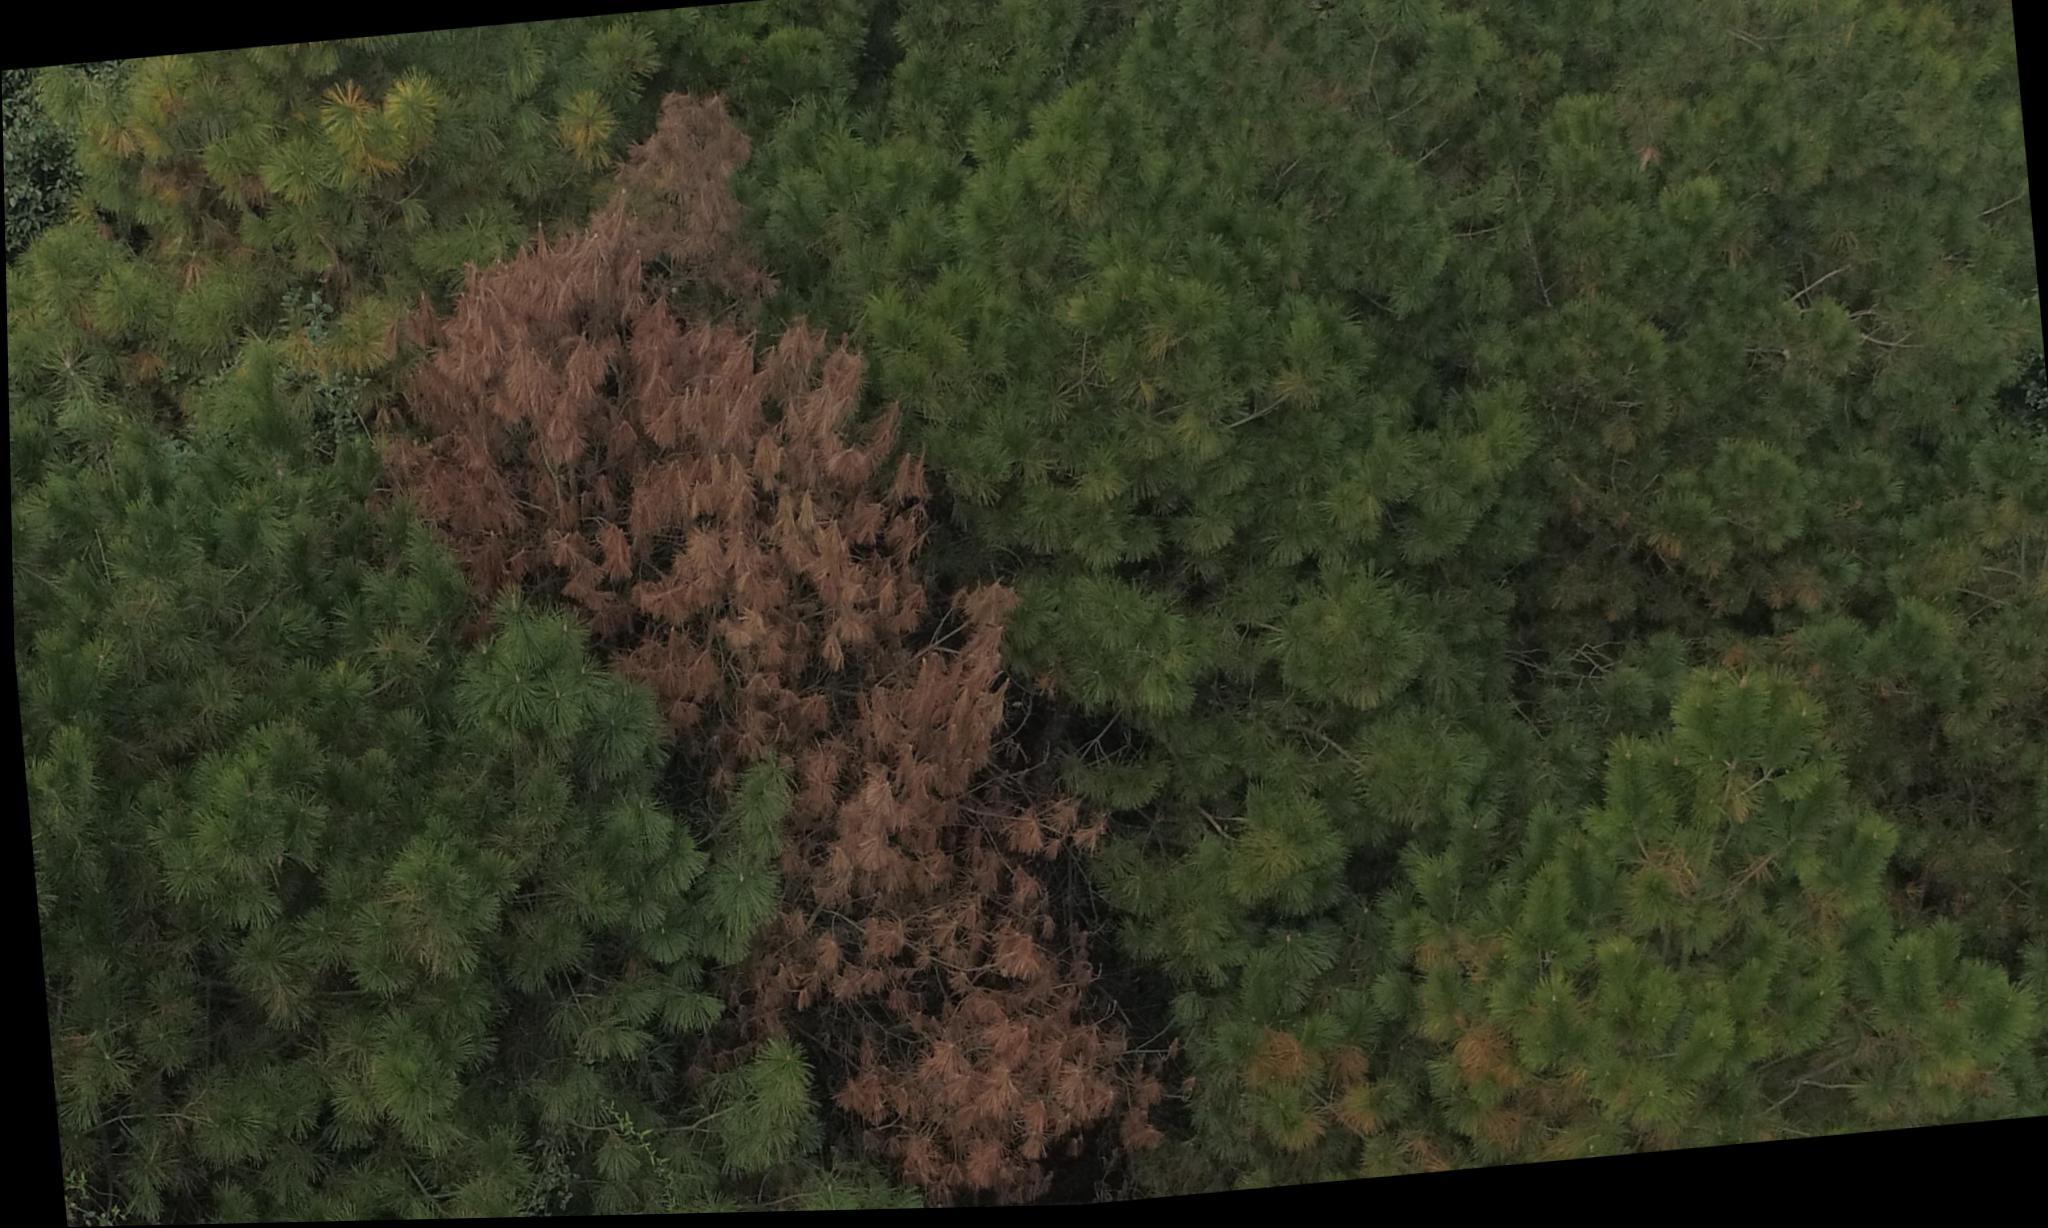heavy: (382, 69, 1047, 678), (727, 642, 1131, 1215)
light: (7, 56, 360, 409)
